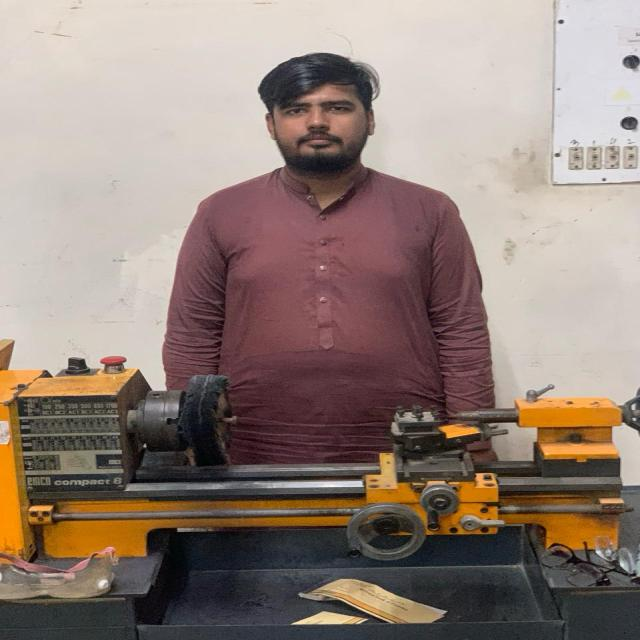dress: (156, 163, 508, 465)
